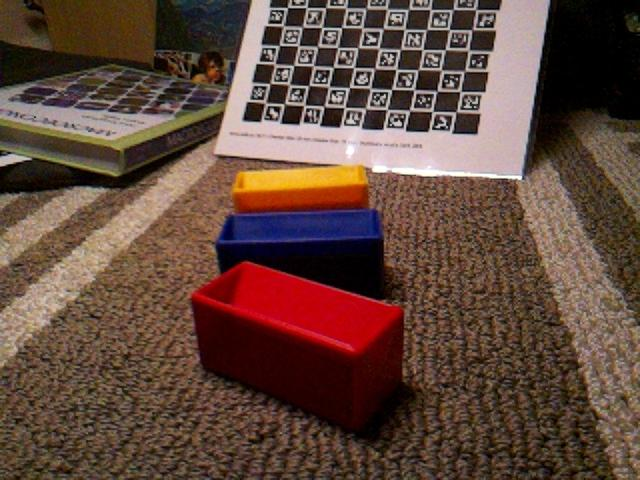blue: (214, 207, 387, 298)
red: (190, 259, 406, 434)
yellow: (230, 164, 371, 213)
